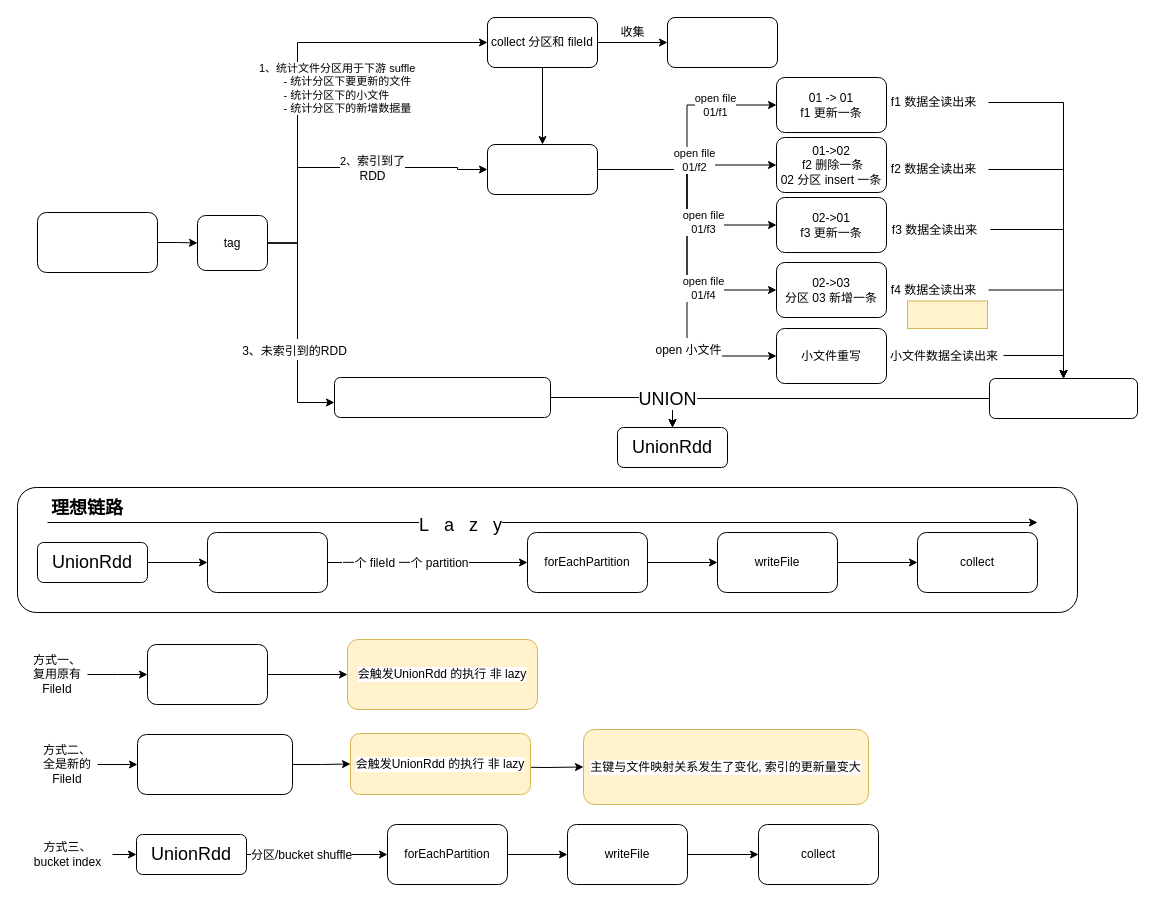
Some shapes in this 1155 by 902 pixel diagram are drawn without their labels. The centre of each missing label's shape, as x and y in pixels:
fileId shuffle: the point at 542,169
LocationUnknowRDD: the point at 442,397
MergedRdd: the point at 1063,398
RDD<HoodieRecord>: the point at 97,242
shuffle: the point at 267,562
也需要统计每个分区下有多少数据要写这样才好对每个分区分配新的 fileId: the point at 214,764
分区和小文件: the point at 722,42
无效膨胀: the point at 947,314
需要重新统计 Insert 的数据量，进行合理规划: the point at 207,674
